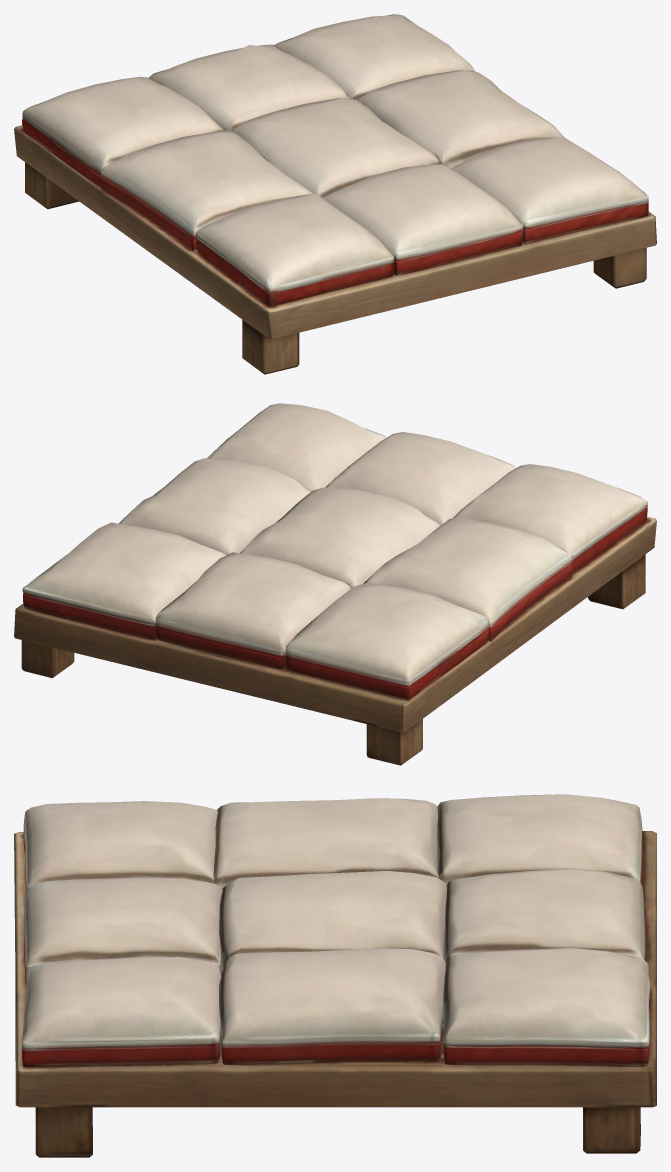
The model's file is act1-a14-5-quilted-platform.glb.
3 renders of one model, top to bottom at view 1: azimuth 30°, elevation 25°; view 2: azimuth 150°, elevation 25°; view 3: azimuth 270°, elevation 25°, orthographic. The views are drawn at different scales.
Visible parts, largest first — view 1: act1-a14-5-quilted-platform; view 2: act1-a14-5-quilted-platform; view 3: act1-a14-5-quilted-platform.
Part boxes in pixels (x1,y1,x2,y2): act1-a14-5-quilted-platform: [14, 14, 656, 374]; act1-a14-5-quilted-platform: [14, 403, 656, 765]; act1-a14-5-quilted-platform: [14, 794, 656, 1157].
Size of the model in its own units: 4.81 by 1.39 by 5.4.
Materials: 1 (1 with a texture image).
